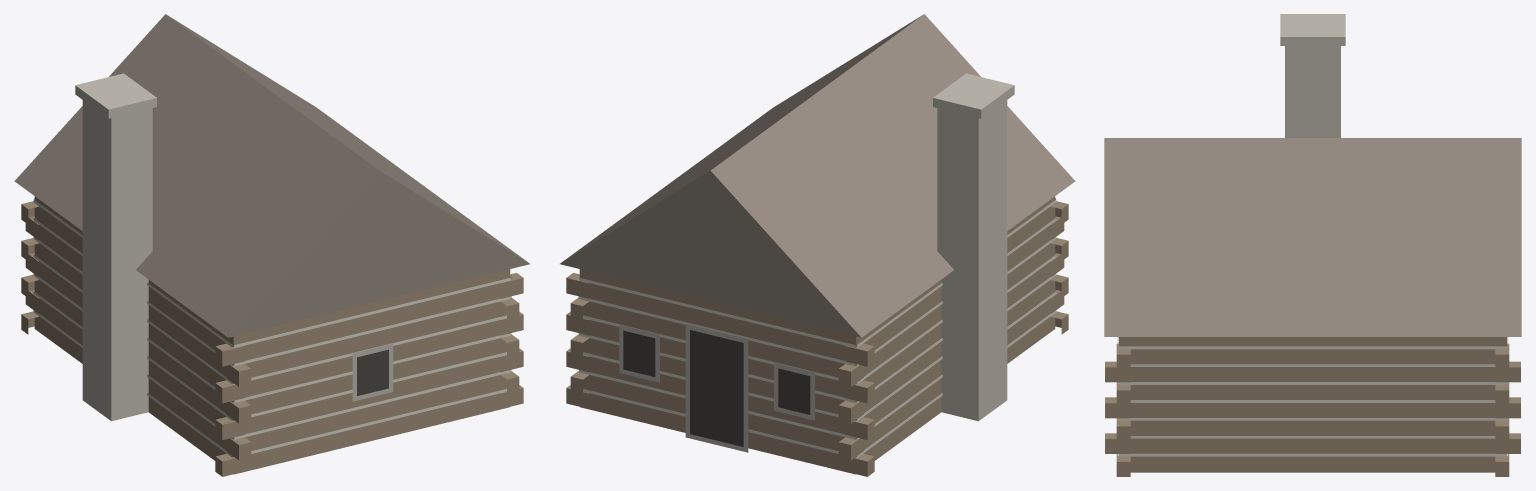
The model's file is recon_1835_south_d1_021__inferred_1835.glb.
3 renders of one model, left to right at view 1: azimuth 30°, elevation 25°; view 2: azimuth 150°, elevation 25°; view 3: azimuth 270°, elevation 25°, orthographic. The views are drawn at different scales.
Parts seen in each view (by area): view 1: recon_1835_south_d1_021__inferred_1835; view 2: recon_1835_south_d1_021__inferred_1835; view 3: recon_1835_south_d1_021__inferred_1835.
Part boxes in pixels (left/top/right/bottom): recon_1835_south_d1_021__inferred_1835: left=14, top=14, right=529, bottom=476; recon_1835_south_d1_021__inferred_1835: left=560, top=14, right=1075, bottom=476; recon_1835_south_d1_021__inferred_1835: left=1104, top=14, right=1521, bottom=476.
Bounding box in the file's own units: 6.43 × 5.89 × 7.18.
